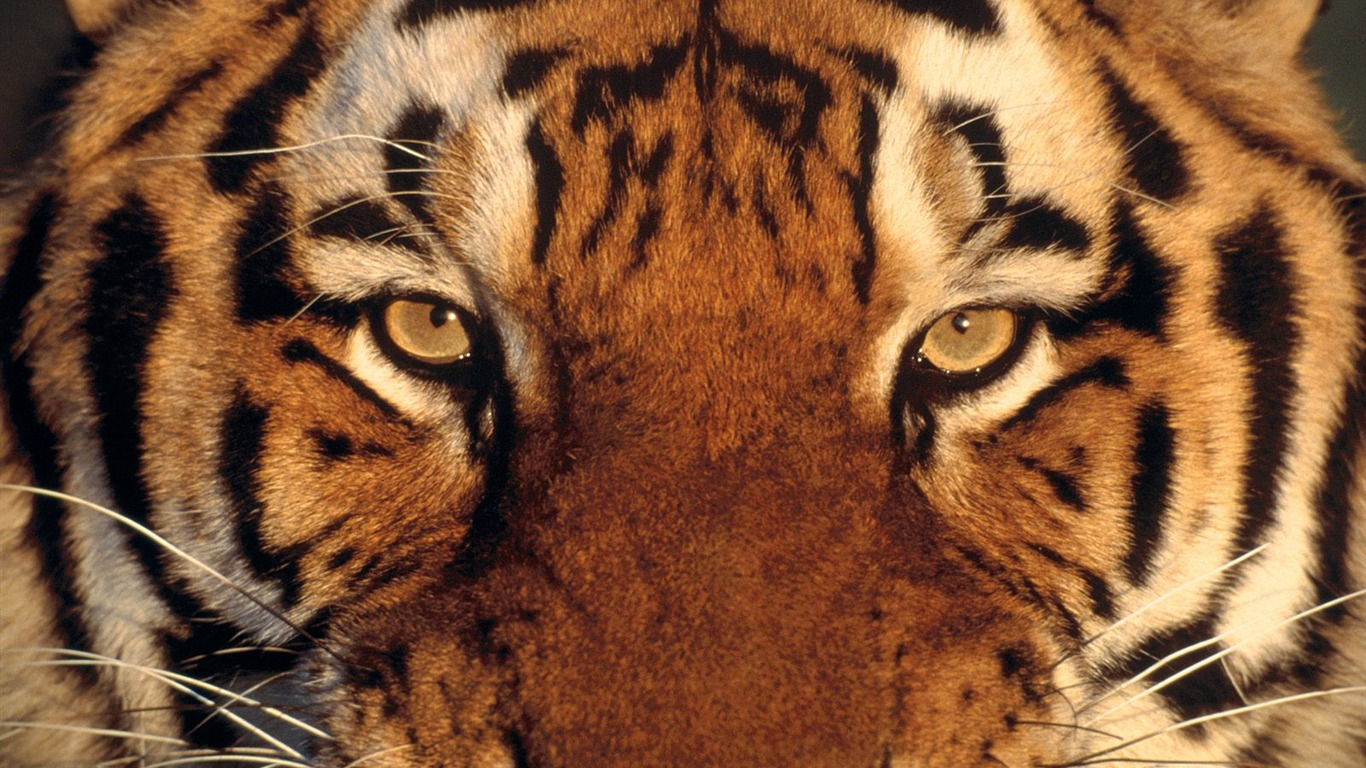Tigrew: (78, 17, 1346, 749)
